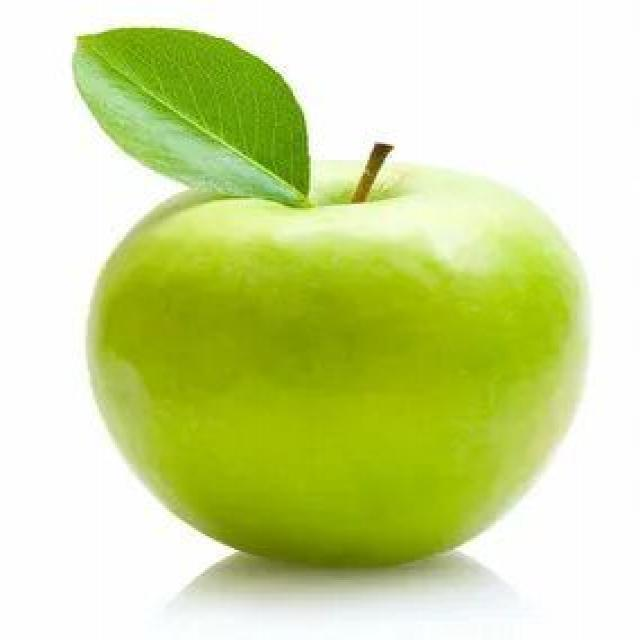Fresh Apple: (87, 163, 553, 550)
